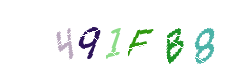1: (83, 0, 163, 80)
4: (50, 0, 130, 80)
8: (160, 0, 240, 80)
9: (64, 0, 144, 80)
B: (121, 0, 201, 80)
F: (91, 0, 171, 80)
